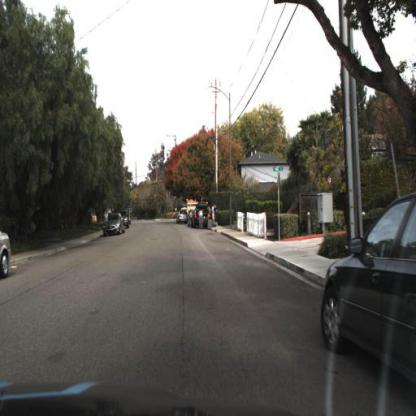car: (319, 190, 416, 403), (99, 206, 128, 240), (2, 228, 14, 283), (193, 203, 212, 231)
pedestrian: (214, 206, 219, 226), (199, 210, 204, 230), (213, 206, 217, 227), (208, 206, 212, 225)
